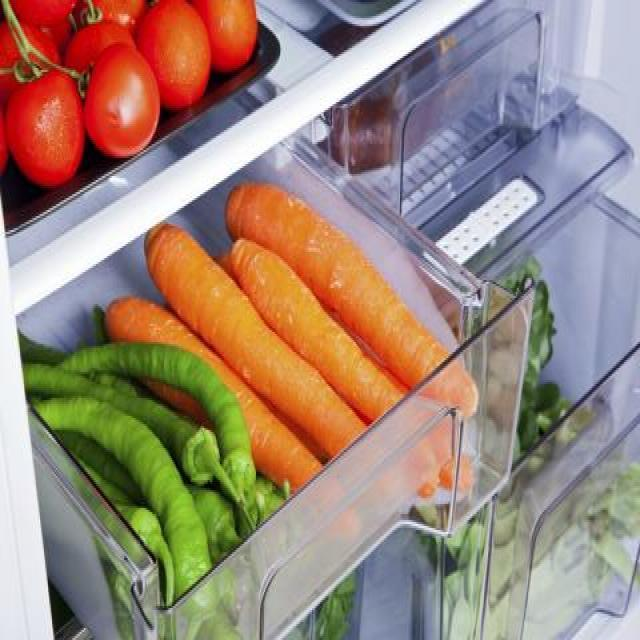carrot: (145, 216, 374, 518), (219, 180, 488, 413), (228, 236, 444, 483)
